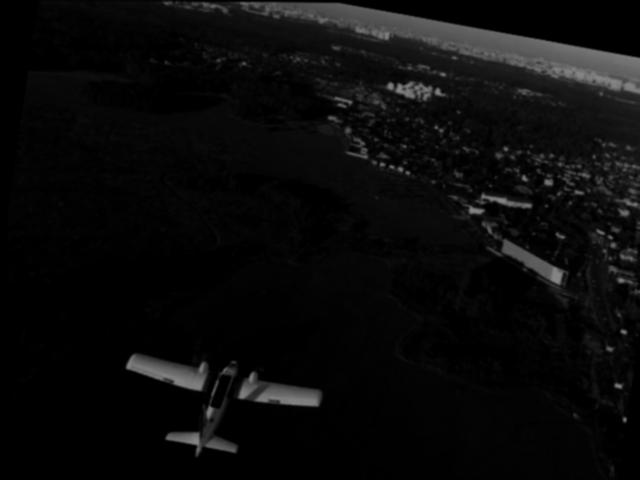hedef: (93, 327, 342, 478)
